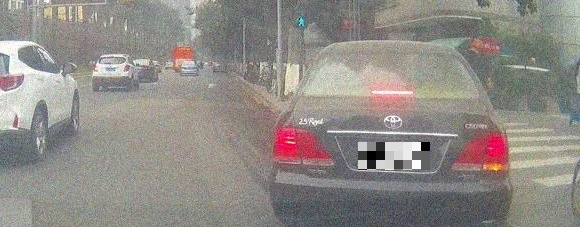L_light: (272, 127, 334, 167), (93, 65, 98, 71)
R_light: (452, 132, 509, 171), (123, 65, 129, 71)
T_light: (371, 89, 414, 95), (110, 57, 115, 58)
day-no: (92, 55, 131, 91)
day-right: (268, 42, 513, 227)
plate_1: (358, 142, 430, 170)
